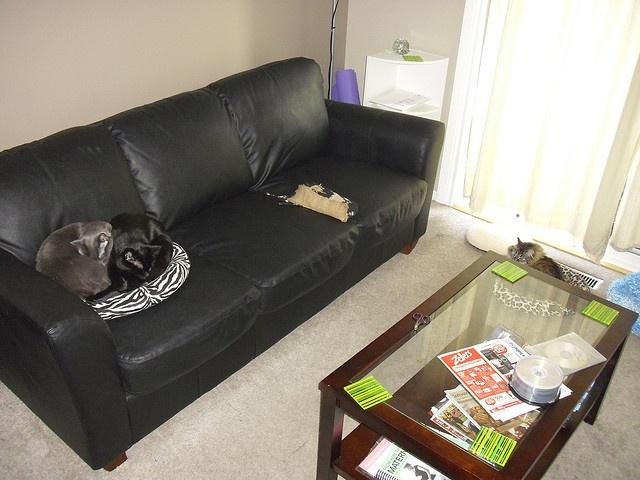Meja: (310, 248, 639, 479)
